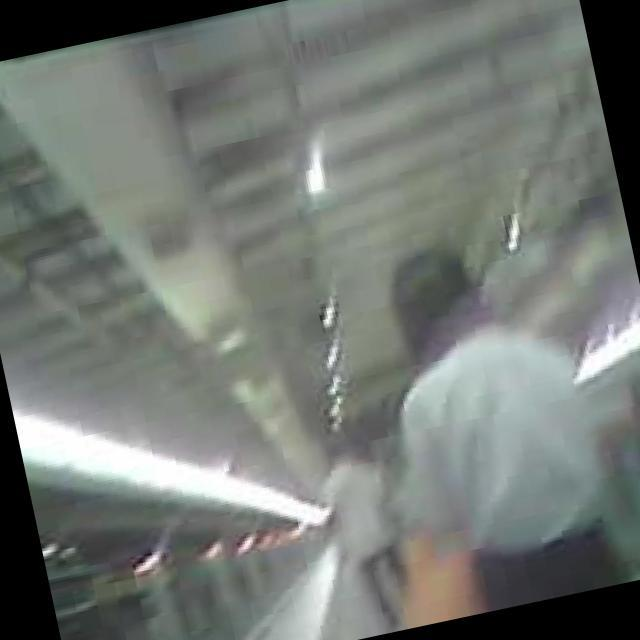person: (325, 215, 640, 629), (305, 402, 426, 640)
